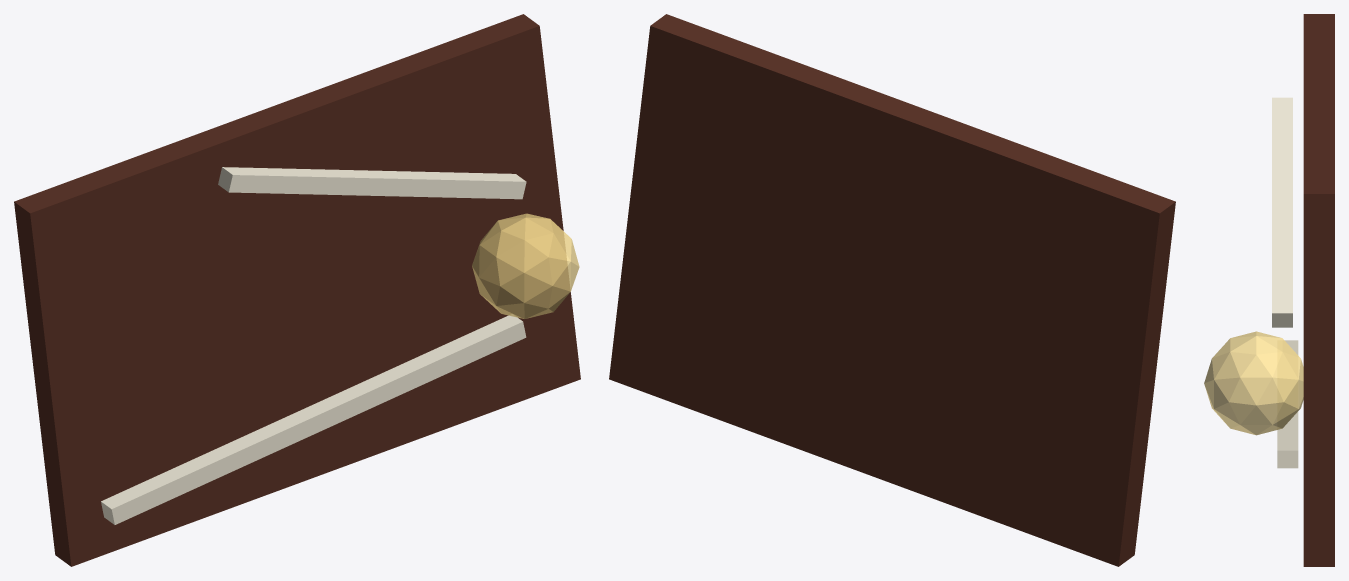
The model's file is 02_world_prop_polish.glb.
3 renders of one model, left to right at view 1: azimuth 30°, elevation 25°; view 2: azimuth 150°, elevation 25°; view 3: azimuth 270°, elevation 25°, orthographic. The views are drawn at different scales.
Parts seen in each view (by area): view 1: object_overlay_plate, edge_wear_a, glow_socket, edge_wear_b; view 2: object_overlay_plate; view 3: object_overlay_plate, glow_socket, edge_wear_b, edge_wear_a.
Part boxes in pixels (x1,y1,x2,y2): object_overlay_plate: (14, 14, 580, 566); edge_wear_a: (101, 314, 526, 524); glow_socket: (472, 213, 579, 318); edge_wear_b: (218, 167, 526, 199); object_overlay_plate: (609, 14, 1175, 566); object_overlay_plate: (1303, 14, 1334, 566); glow_socket: (1204, 331, 1303, 435); edge_wear_b: (1272, 97, 1292, 327); edge_wear_a: (1277, 340, 1298, 468).
Size of the model in its own units: 1.18 by 0.8744 by 0.25.
